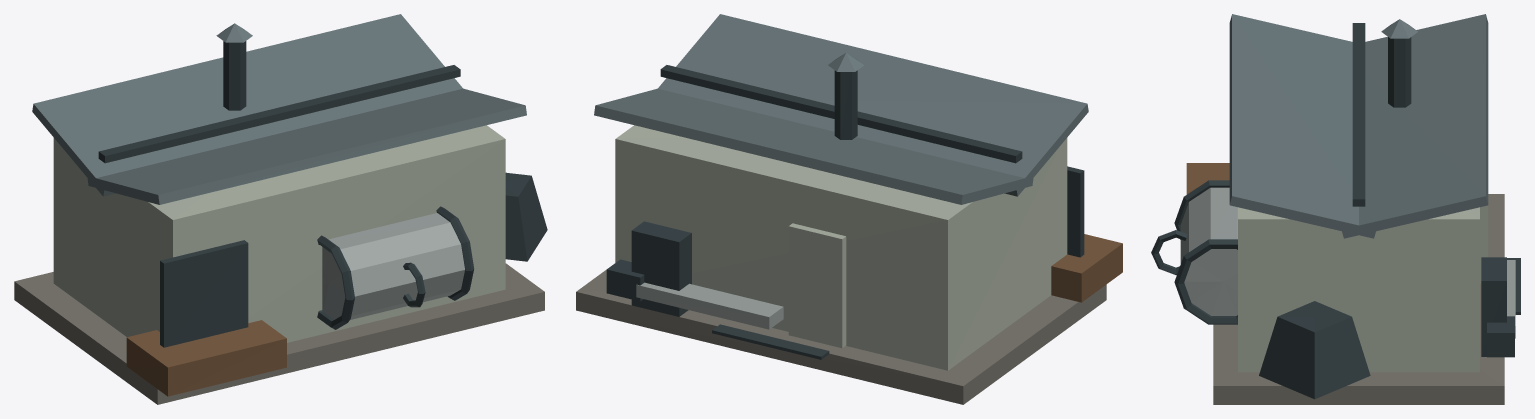
File: Cannery.glb
3 views of the same model, side by side, from view 1: azimuth 30°, elevation 25°; view 2: azimuth 150°, elevation 25°; view 3: azimuth 270°, elevation 25° (orthographic).
Visible parts, largest first — view 1: wind-pump-static-cannery-sage-processing-panels, wind-pump-static-cannery-galvanized-roof, wind-pump-static-cannery-dark-industrial-frame, wind-pump-static-cannery-stone-curb, wind-pump-static-cannery-retort-steel, wind-pump-static-cannery-loading-timber; view 2: wind-pump-static-cannery-sage-processing-panels, wind-pump-static-cannery-galvanized-roof, wind-pump-static-cannery-stone-curb, wind-pump-static-cannery-dark-industrial-frame, wind-pump-static-cannery-retort-steel, wind-pump-static-cannery-loading-timber; view 3: wind-pump-static-cannery-galvanized-roof, wind-pump-static-cannery-sage-processing-panels, wind-pump-static-cannery-dark-industrial-frame, wind-pump-static-cannery-stone-curb, wind-pump-static-cannery-retort-steel, wind-pump-static-cannery-loading-timber.
Part boxes in pixels (x1,y1,x2,y2): wind-pump-static-cannery-sage-processing-panels: (53,125,505,342); wind-pump-static-cannery-galvanized-roof: (32,14,526,204); wind-pump-static-cannery-dark-industrial-frame: (98,41,547,347); wind-pump-static-cannery-stone-curb: (14,263,544,404); wind-pump-static-cannery-retort-steel: (322,213,464,319); wind-pump-static-cannery-loading-timber: (126,320,286,396); wind-pump-static-cannery-sage-processing-panels: (615,125,1067,370); wind-pump-static-cannery-galvanized-roof: (594,14,1088,204); wind-pump-static-cannery-stone-curb: (576,269,1106,404); wind-pump-static-cannery-dark-industrial-frame: (606,65,1084,359); wind-pump-static-cannery-retort-steel: (636,282,783,329); wind-pump-static-cannery-loading-timber: (1051,234,1122,302); wind-pump-static-cannery-galvanized-roof: (1229,14,1488,238); wind-pump-static-cannery-sage-processing-panels: (1238,205,1488,372); wind-pump-static-cannery-dark-industrial-frame: (1151,23,1520,399); wind-pump-static-cannery-stone-curb: (1213,194,1504,404); wind-pump-static-cannery-retort-steel: (1180,187,1515,338); wind-pump-static-cannery-loading-timber: (1186,163,1229,194).
Size of the model in its own units: 4.46 by 2.63 by 3.17.
